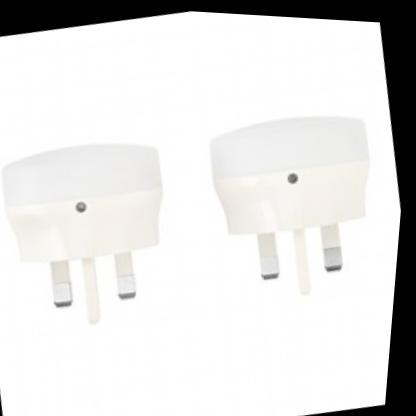Lamp: (176, 56, 413, 345), (0, 84, 203, 350)
